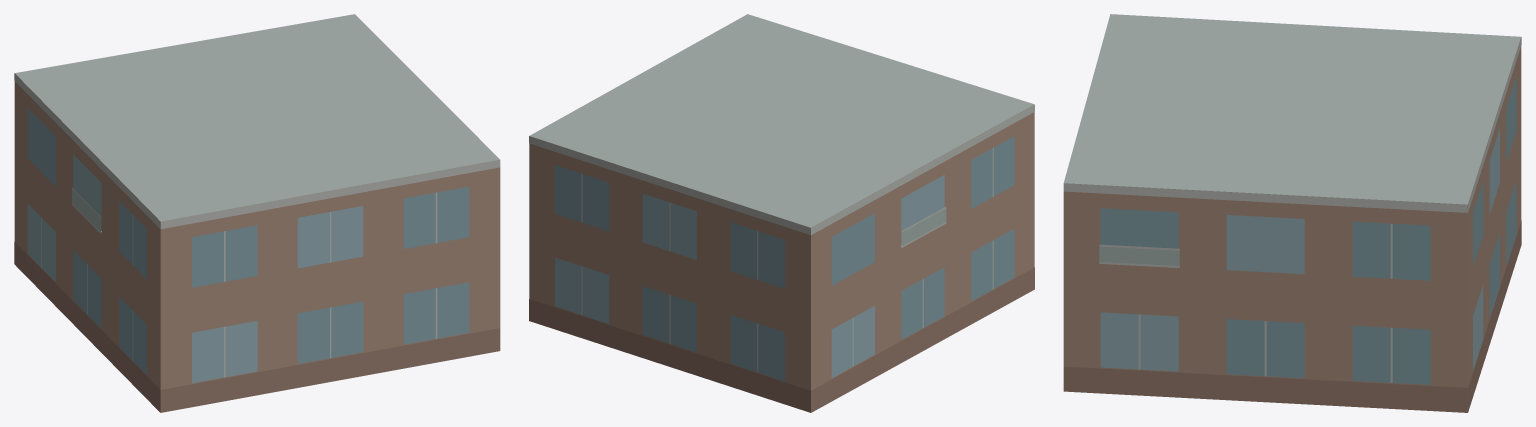
The model's file is survey-upis-32868713.glb.
The picture shows the model from 3 angles, left to right: view 1: azimuth 30°, elevation 25°; view 2: azimuth 150°, elevation 25°; view 3: azimuth 270°, elevation 25°; orthographic projection. The views are drawn at different scales.
Parts seen in each view (by area): view 1: survey-upis-32868713.tmp; view 2: survey-upis-32868713.tmp; view 3: survey-upis-32868713.tmp.
Boxes of the visible parts, x1,y1,x2,y2 form: survey-upis-32868713.tmp: (14,14,500,412); survey-upis-32868713.tmp: (529,14,1034,412); survey-upis-32868713.tmp: (1063,14,1521,412).
Bounding box in the file's own units: 11.98 × 6.1 × 12.16.
